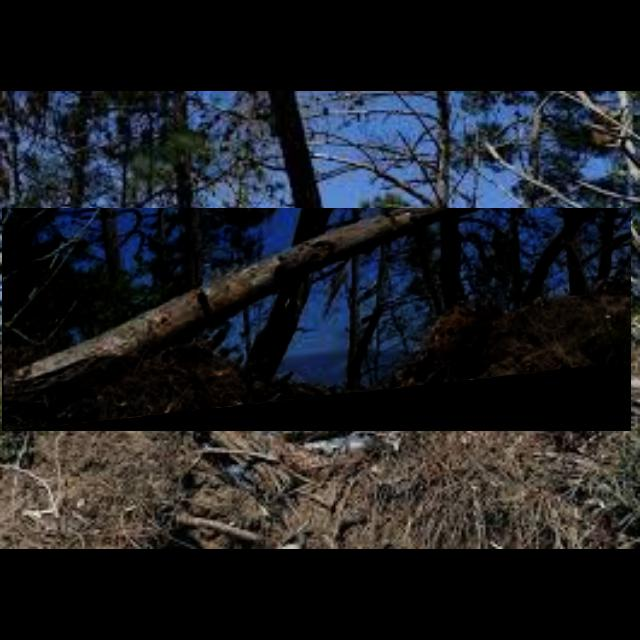Fallen Tree: (2, 208, 632, 432)
